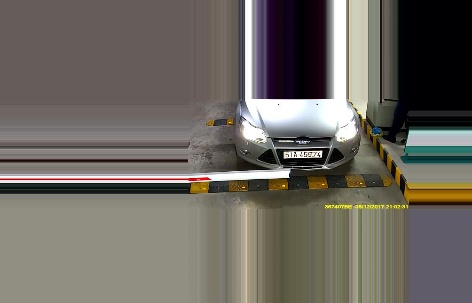plate: (284, 145, 321, 158)
